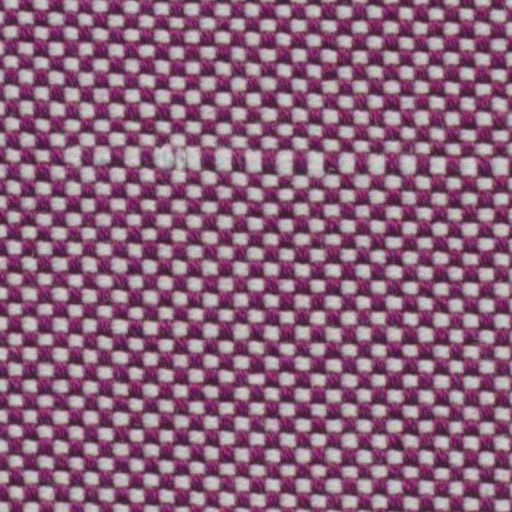DaiSha: (48, 123, 498, 192)
